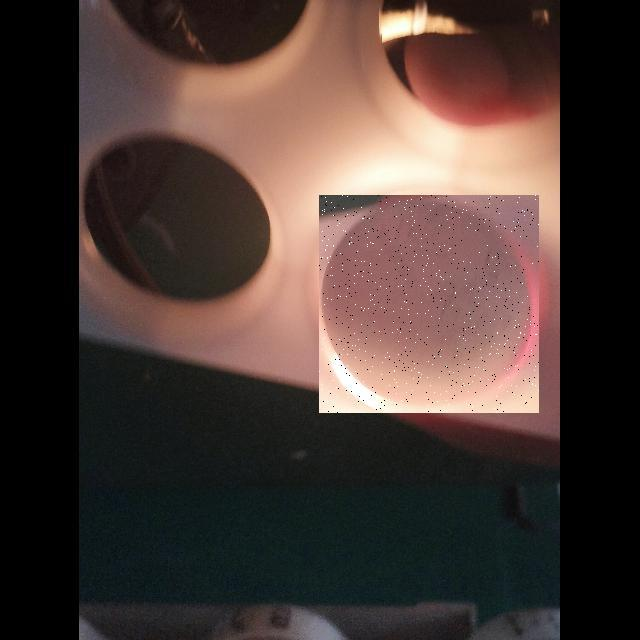Fertile: (319, 195, 539, 413)
